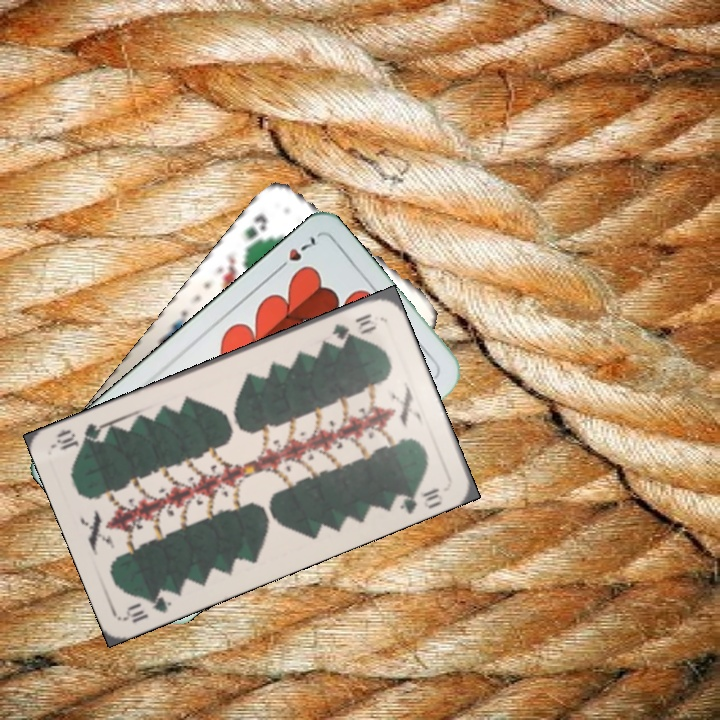G10: (121, 585, 178, 626), (327, 309, 381, 343)
GK: (241, 209, 271, 255)
H7: (271, 231, 319, 275)
